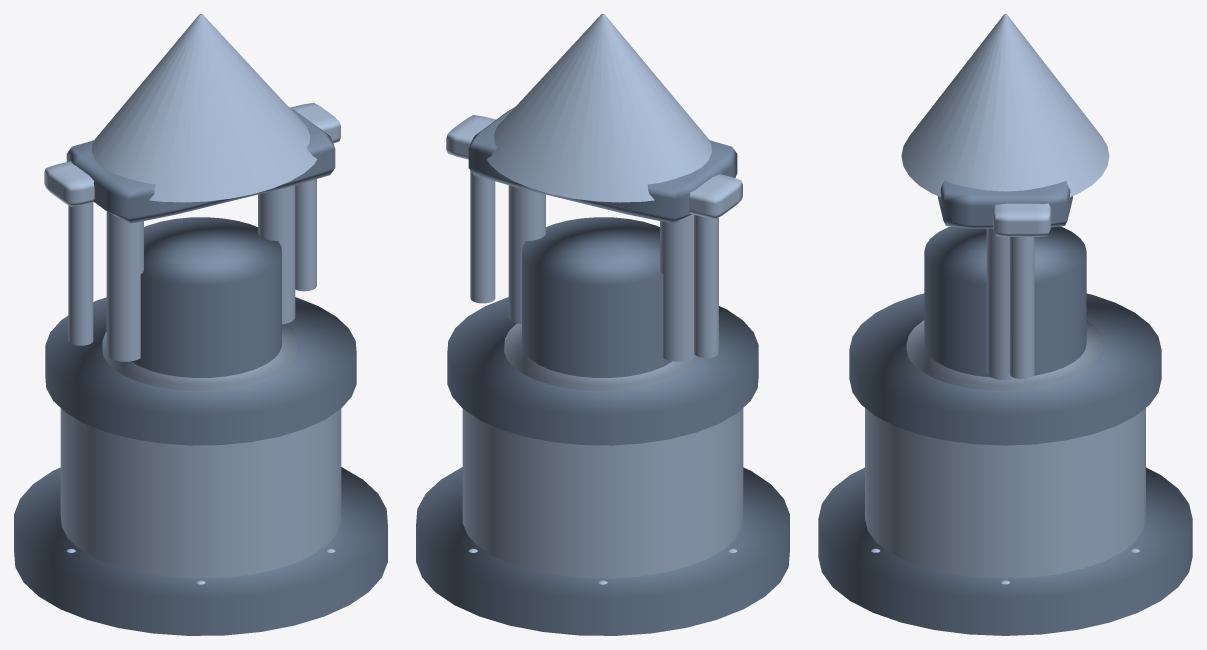
The model's file is temple_l4.glb.
The picture shows the model from 3 angles, left to right: view 1: azimuth 30°, elevation 25°; view 2: azimuth 150°, elevation 25°; view 3: azimuth 270°, elevation 25°; orthographic projection.
Parts seen in each view (by area): view 1: base, footing, roof, baseCollar, shaft, pillar (×2), lintel, OuterPillar-1, lowerTrim, OuterPillar1, PillarCapital-1, PillarCapital1; view 2: base, footing, roof, baseCollar, shaft, pillar (×2), lintel, OuterPillar-1, lowerTrim, OuterPillar1, PillarCapital-1, PillarCapital1; view 3: base, footing, baseCollar, roof, shaft, lowerTrim, lintel, OuterPillar1, pillar, PillarCapital1.
Boxes of the visible parts, box(x1,y1,x2,y2) form: base: box(60, 408, 341, 578); footing: box(14, 467, 387, 635); roof: box(92, 14, 317, 202); baseCollar: box(45, 297, 356, 445); shaft: box(132, 217, 281, 377); pillar (×2): box(106, 185, 295, 361); lintel: box(66, 107, 335, 223); OuterPillar-1: box(68, 202, 93, 345); lowerTrim: box(102, 323, 299, 391); OuterPillar1: box(295, 179, 316, 291); PillarCapital-1: box(44, 161, 94, 206); PillarCapital1: box(290, 102, 340, 143); base: box(462, 408, 743, 578); footing: box(416, 467, 789, 635); roof: box(486, 14, 711, 202); baseCollar: box(447, 297, 758, 445); shaft: box(522, 217, 671, 377); pillar (×2): box(508, 185, 696, 361); lintel: box(468, 107, 737, 223); OuterPillar-1: box(694, 214, 718, 357); lowerTrim: box(504, 323, 699, 391); OuterPillar1: box(470, 171, 495, 303); PillarCapital-1: box(689, 174, 742, 218); PillarCapital1: box(446, 115, 495, 159); base: box(865, 408, 1145, 578); footing: box(818, 467, 1192, 635); baseCollar: box(849, 293, 1161, 445); roof: box(901, 14, 1109, 196); shaft: box(924, 226, 1086, 377); lowerTrim: box(906, 320, 1104, 391); lintel: box(938, 180, 1072, 228); OuterPillar1: box(1009, 237, 1034, 378); pillar: box(986, 228, 1015, 380); PillarCapital1: box(993, 203, 1051, 236).
Bounding box in the file's own units: 1.8 × 2.88 × 1.8.
